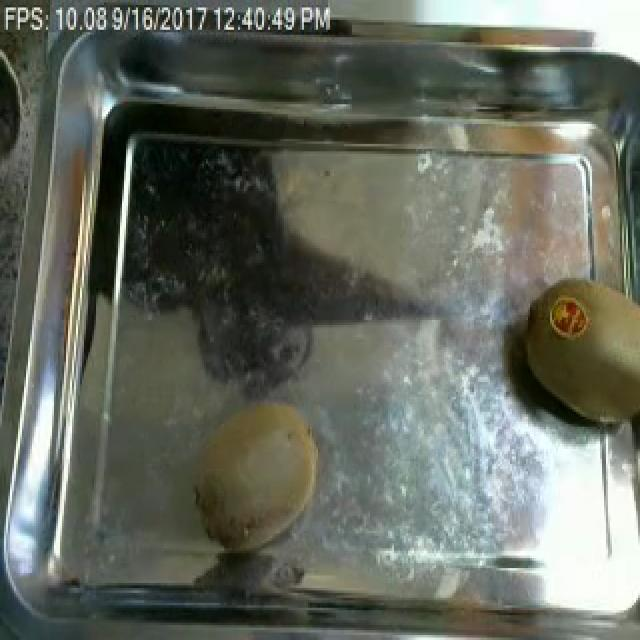Fruit: (186, 392, 328, 561), (514, 268, 640, 436)
